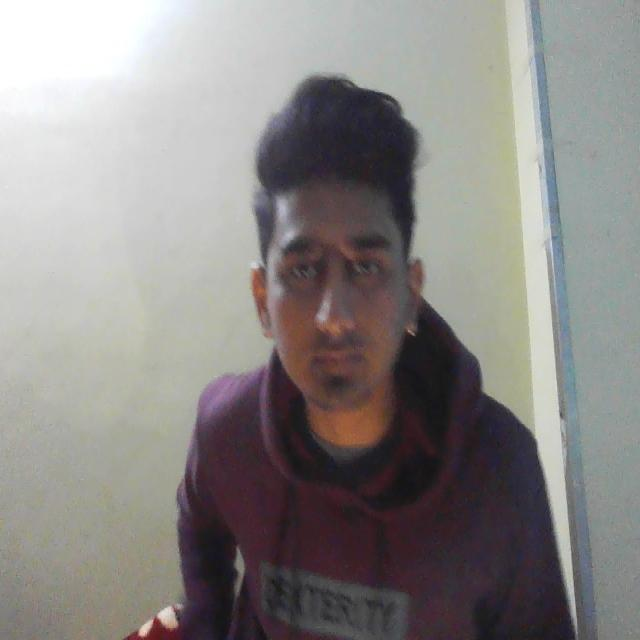real: (249, 88, 438, 445)
